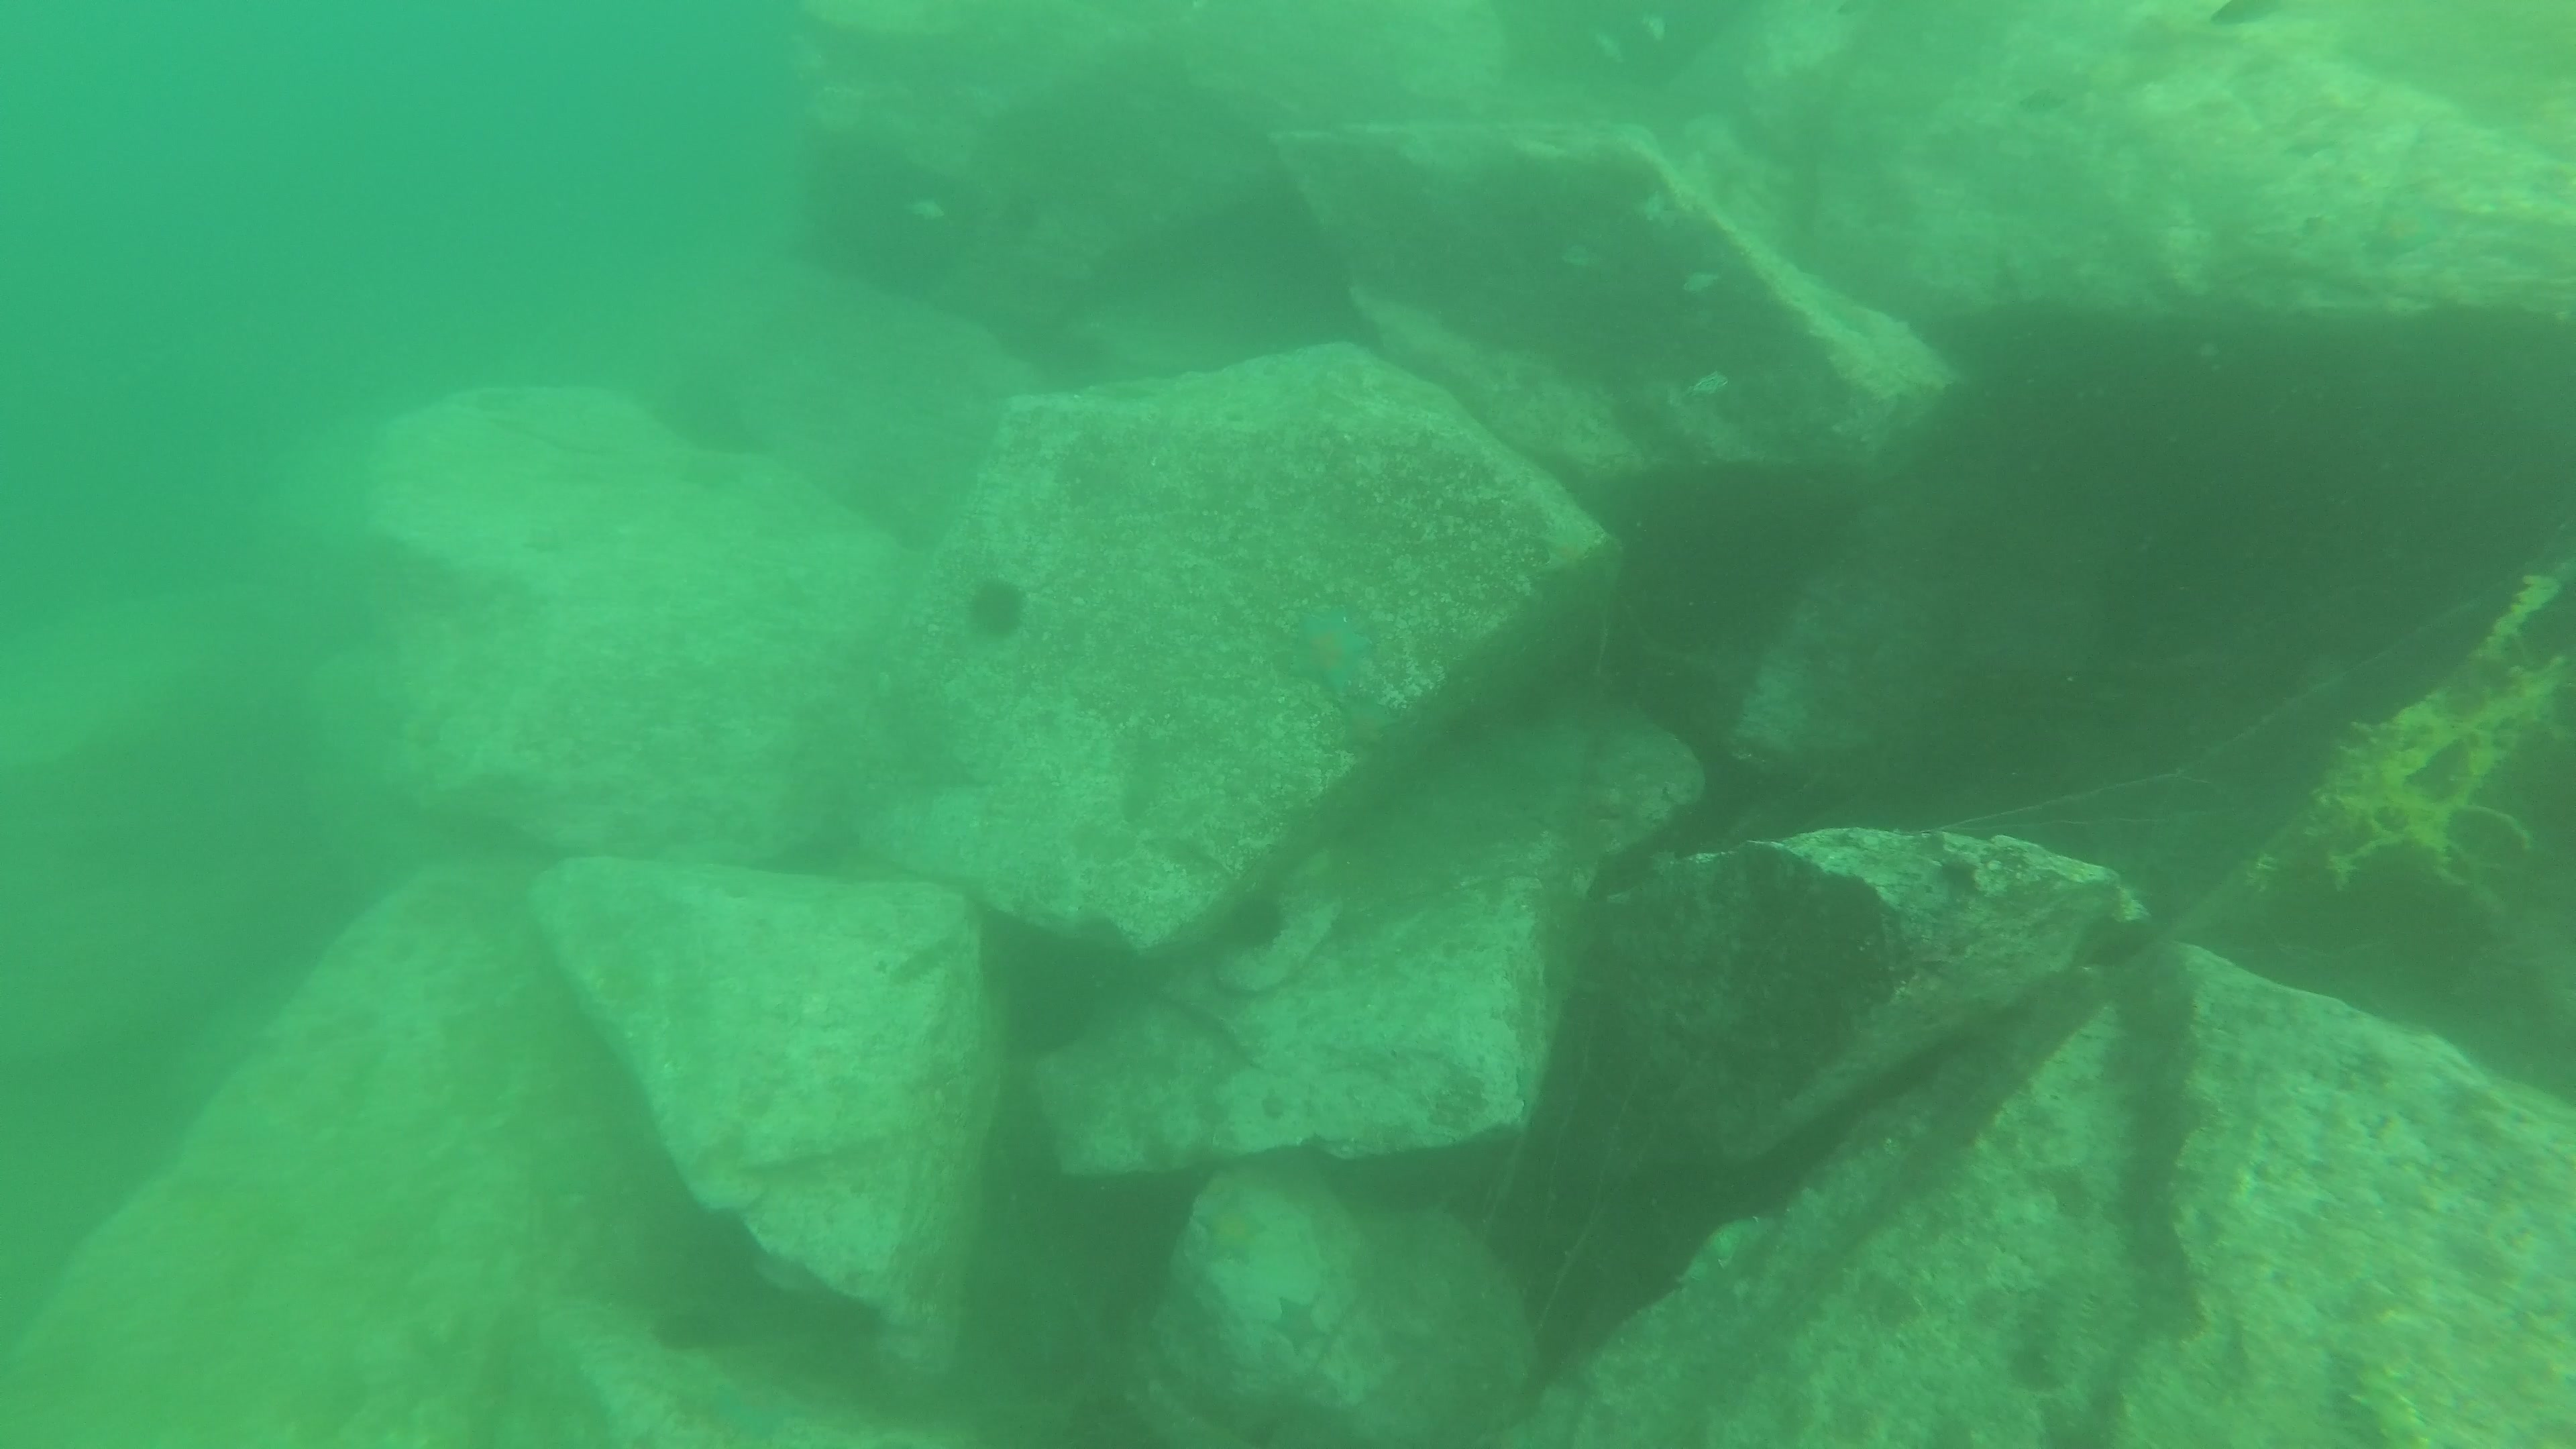echinus: (966, 575, 1033, 640), (1228, 892, 1284, 952), (646, 1302, 711, 1348)
holothurian: (2033, 1263, 2098, 1389), (2342, 1361, 2431, 1449), (888, 932, 966, 985)
starfish: (1284, 600, 1375, 692), (1189, 1191, 1267, 1269), (1334, 685, 1403, 757), (2373, 195, 2443, 260), (1272, 1293, 1332, 1361), (1534, 524, 1594, 582)
